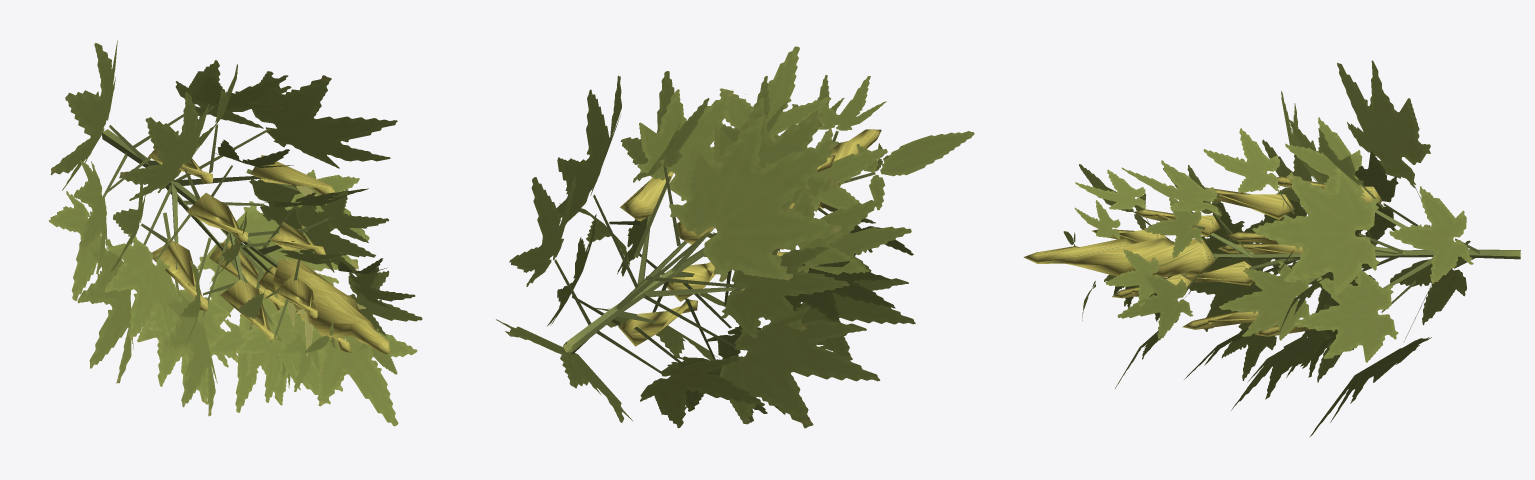
The model's file is p_gold_hybrid_flowering_c1_cards.obj.
3 renders of one model, left to right at view 1: azimuth 30°, elevation 25°; view 2: azimuth 150°, elevation 25°; view 3: azimuth 270°, elevation 25°, orthographic. The views are drawn at different scales.
Size of the model in its own units: 1.26 by 1.29 by 1.57.
1 material, 1 textured.
